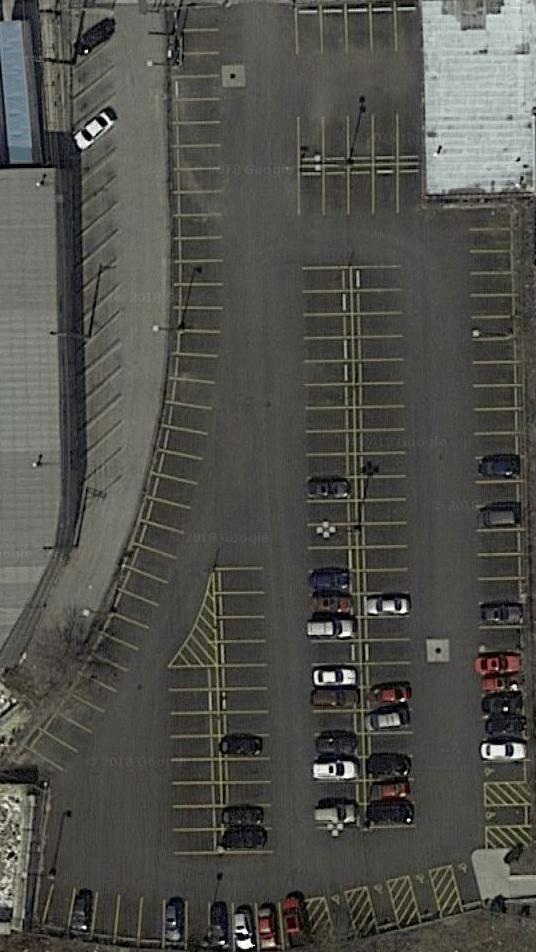parkingspot: (7, 3, 224, 788), (349, 264, 419, 830), (299, 265, 367, 831), (464, 206, 528, 785), (67, 9, 127, 516), (41, 881, 312, 951), (213, 566, 276, 855), (166, 664, 224, 857), (293, 1, 427, 58), (296, 162, 425, 218), (296, 112, 423, 167), (447, 856, 485, 908), (405, 867, 442, 919), (363, 878, 400, 930), (322, 888, 358, 941), (482, 804, 528, 829)
